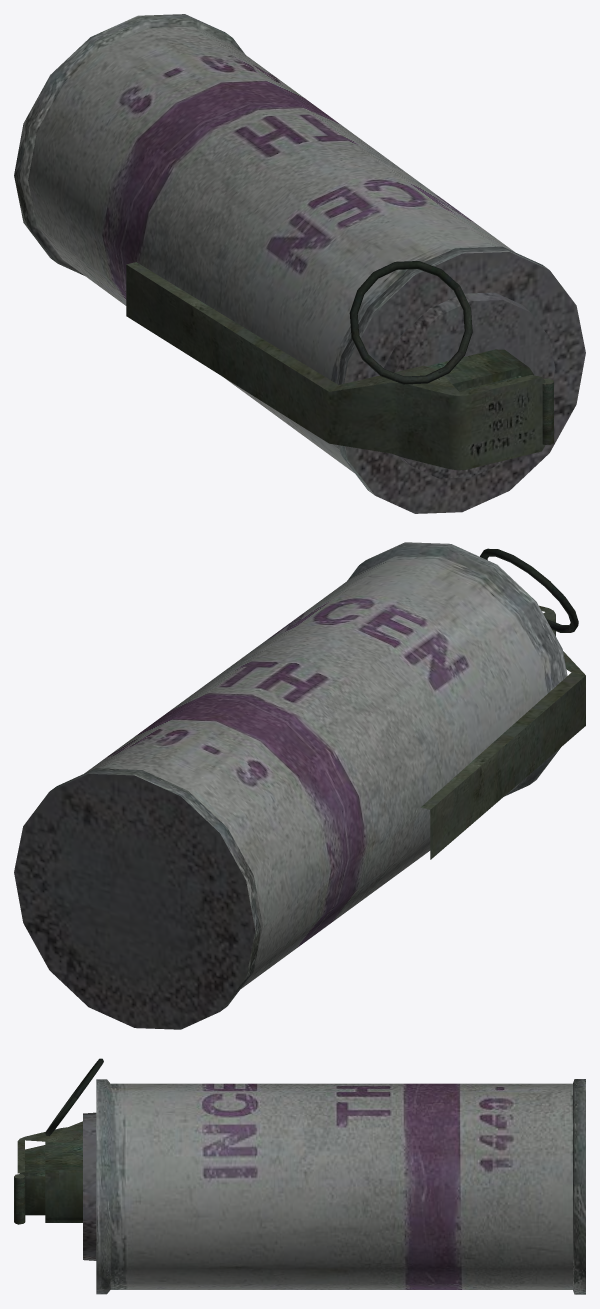
File: weapon_us_thermite_grenade.glb
3 views of the same model, one above another, from view 1: azimuth 30°, elevation 25°; view 2: azimuth 150°, elevation 25°; view 3: azimuth 270°, elevation 25° (orthographic). The views are drawn at different scales.
Bounding box in the file's own units: 2.44 × 2.19 × 5.71.
Materials: 1 (1 with a texture image).
